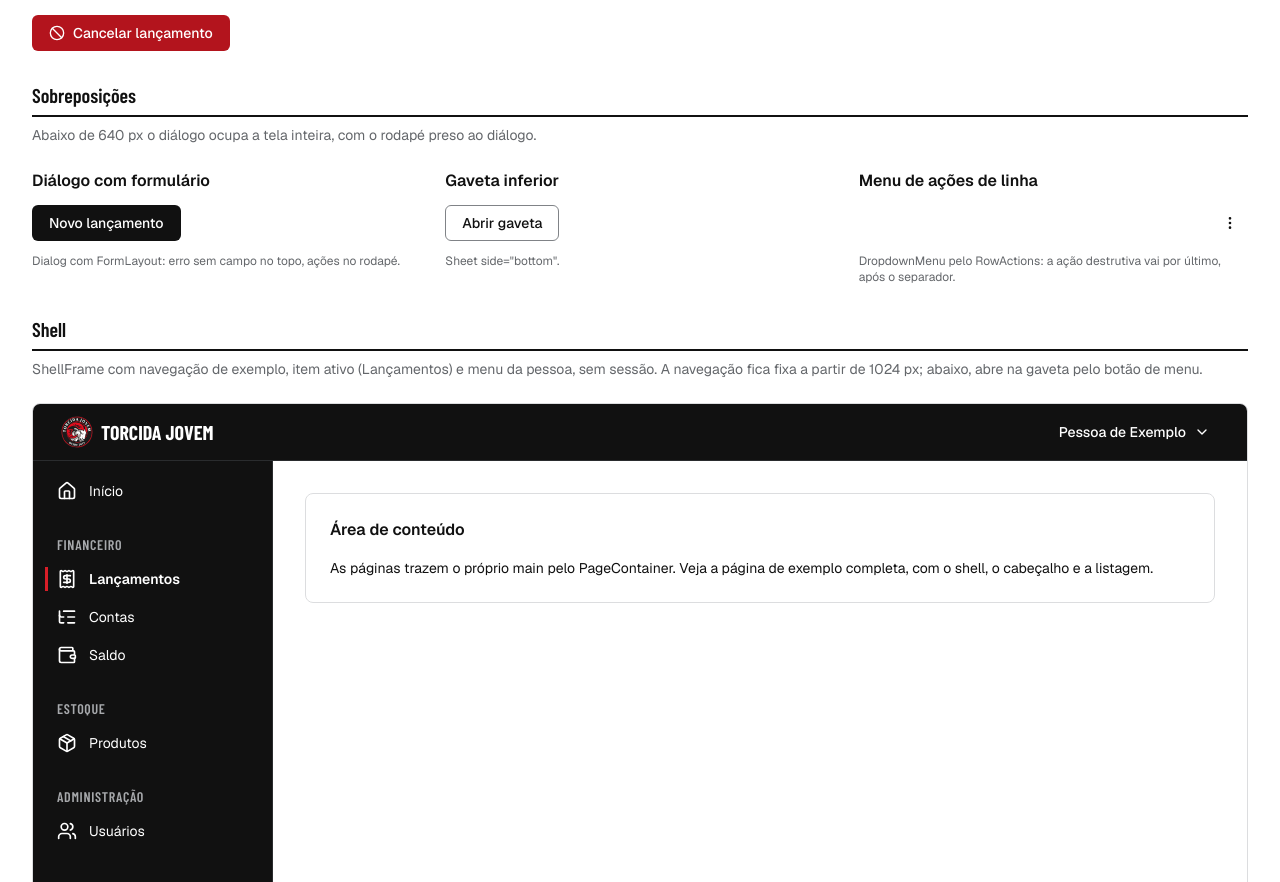
Test: shell › mostra navegação com ícones, item ativo e menu da pessoa, sem criar main nem h1
(page scrolled)
expect the icon next to "Início" is shown: met, box [57,481,77,501]
expect the 5th icon is shown: met, box [57,569,77,589]
Click the button "Pessoa de Exemplo" at (1134, 432), box [1046,414,1223,450]
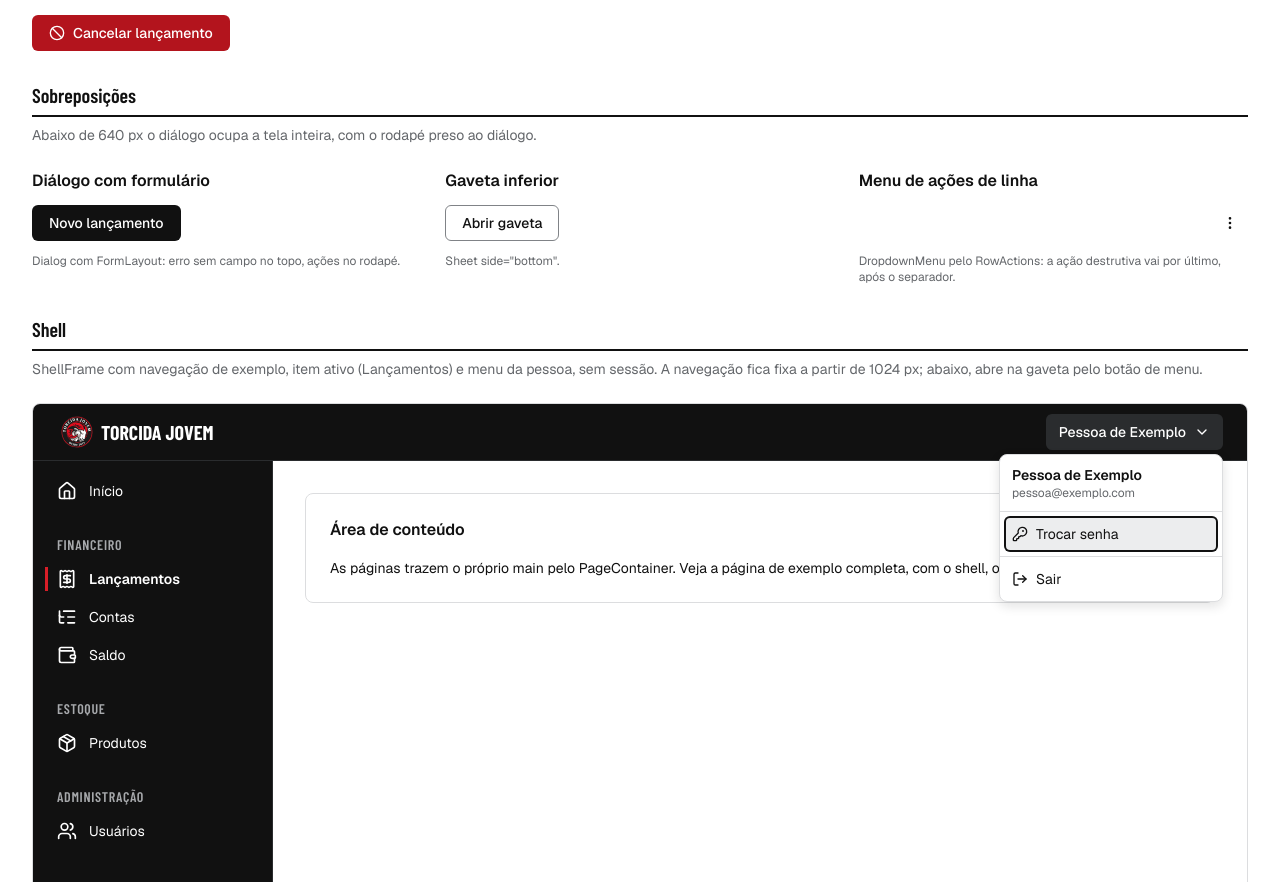
expect the text "pessoa@exemplo.com" is shown: met, box [1012,485,1135,501]
expect the menu items read "Trocar senha", "Sair", in this order: met, box [1004,516,1218,552]; [1012,570,1062,588]
